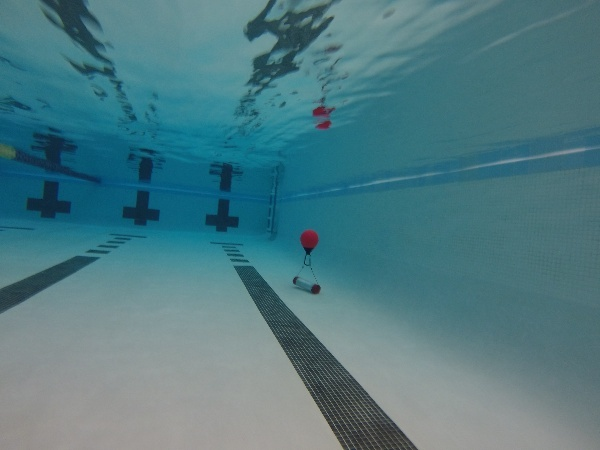buoy_red: (298, 227, 319, 255)
